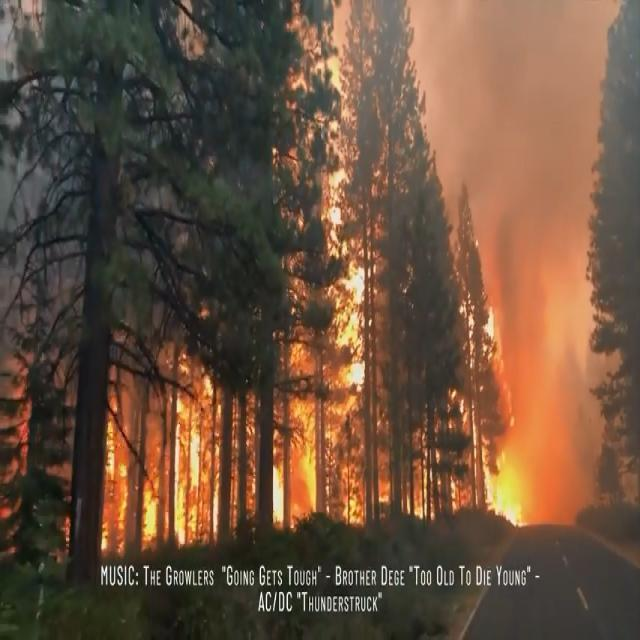Fire: (98, 140, 536, 552)
